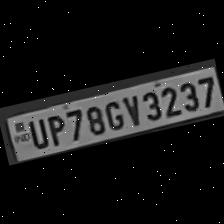2: (156, 83, 182, 119)
3: (174, 78, 200, 114), (138, 87, 163, 123)
7: (60, 105, 88, 143), (194, 73, 220, 109)
8: (80, 100, 108, 138)
G: (100, 96, 127, 133)
P: (42, 110, 69, 148)
U: (23, 115, 51, 152)
V: (118, 90, 144, 129)
